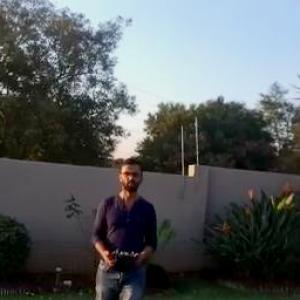follow: (76, 152, 165, 299)
